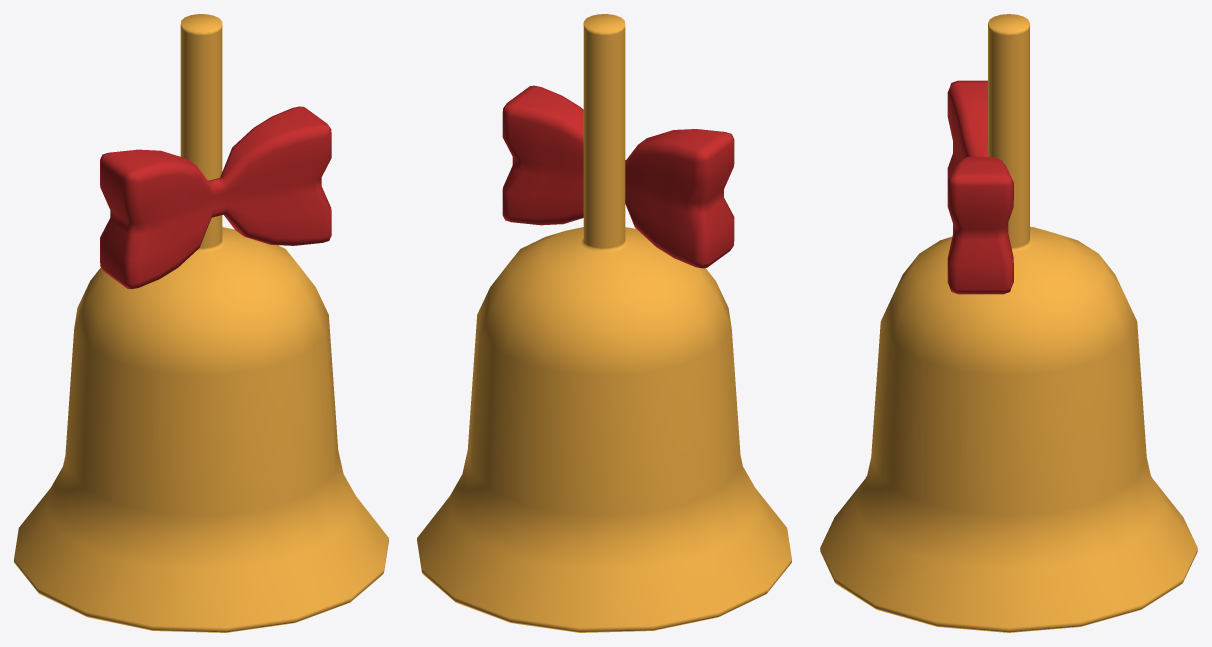
The model's file is bell.fbx.
3 renders of one model, left to right at view 1: azimuth 30°, elevation 25°; view 2: azimuth 150°, elevation 25°; view 3: azimuth 270°, elevation 25°, orthographic.
Parts seen in each view (by area): view 1: bell; view 2: bell; view 3: bell.
Boxes of the visible parts, box(x1,y1,x2,y2) form: bell: box(14, 14, 388, 632); bell: box(417, 14, 791, 632); bell: box(820, 14, 1197, 632).
Size of the model in its own units: 18.91 by 29.67 by 18.91.
